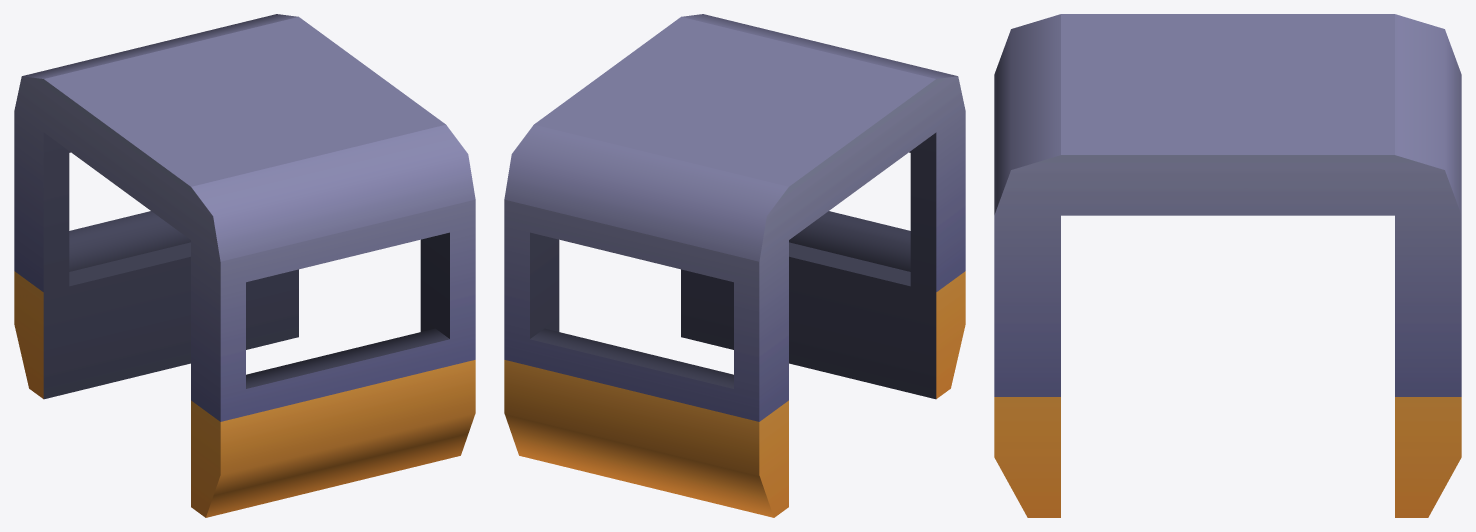
File: kenney-conveyor-cover-stripe-window.glb
The picture shows the model from 3 angles, left to right: view 1: azimuth 30°, elevation 25°; view 2: azimuth 150°, elevation 25°; view 3: azimuth 270°, elevation 25°; orthographic projection. The views are drawn at different scales.
Parts seen in each view (by area): view 1: cover-stripe-window; view 2: cover-stripe-window; view 3: cover-stripe-window.
Boxes of the visible parts, x1=… form: cover-stripe-window: x1=14, y1=14, x2=475, y2=517; cover-stripe-window: x1=504, y1=14, x2=965, y2=517; cover-stripe-window: x1=994, y1=14, x2=1461, y2=517.
Bounding box in the file's own units: 1 × 1.2 × 1.4.
Materials: 1 (1 with a texture image).
